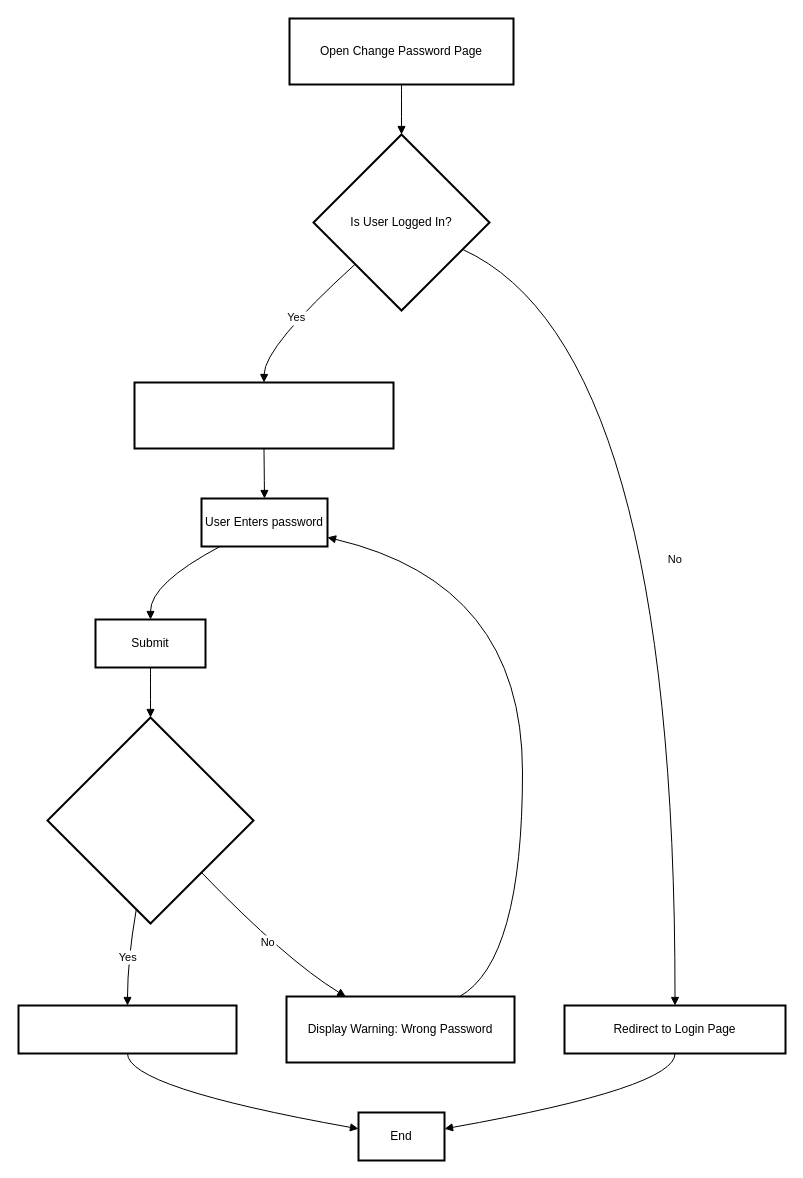
Image size: 803x1178. Some labels were removed from this diagram. Here are the shapes that lost their labels. From the top down, the centre of each, then its label:
[263,415]: Allow to Proceed to Change Password
[150,820]: Is Current Password Correct?
[127,1029]: Update User Password
